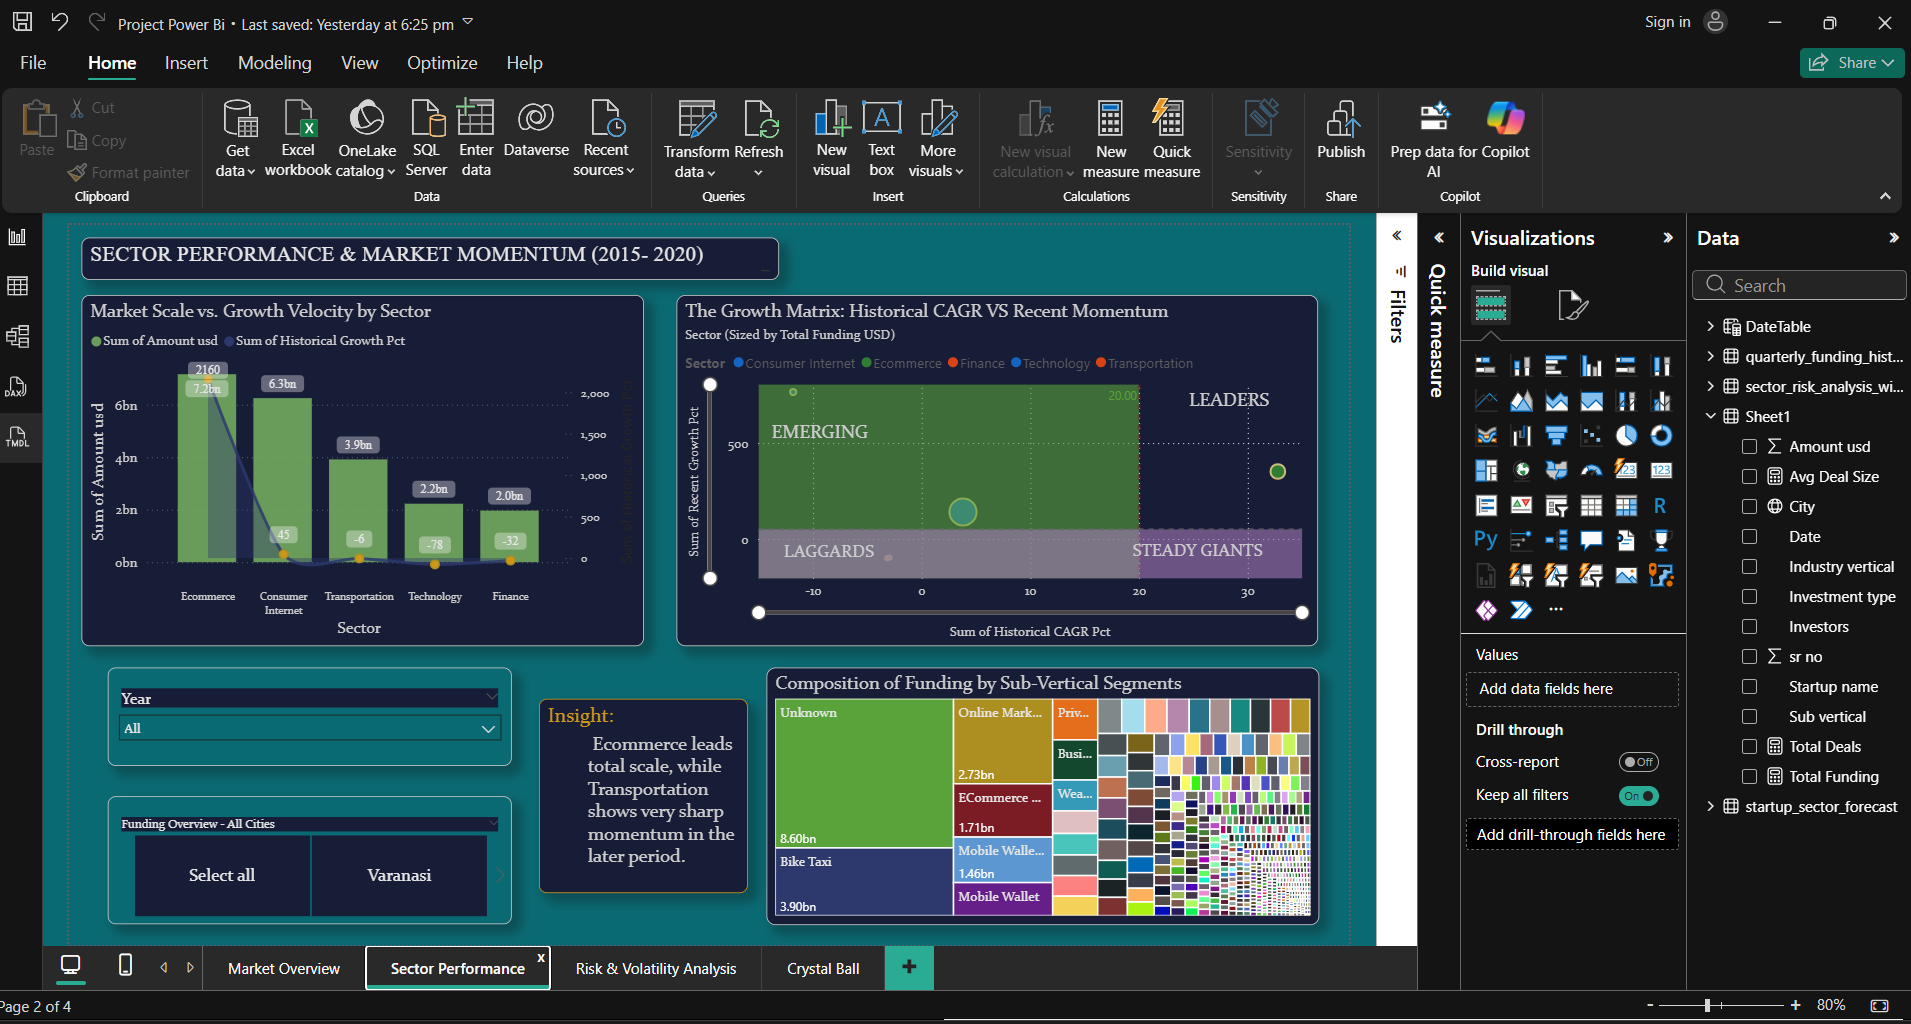

This screenshot's page, from the dashboard's own definition file:
{"tool":"powerbi","page":{"name":"Sector Performance","canvas":[1280,720],"ordinal":1},"visuals":[{"type":"scatterChart","title":"The Growth Matrix: Historical CAGR VS Recent Momentum","fields":{"X":["Sum(sector_risk_analysis_with_simple_forecast.Historical CAGR Pct)"],"Y":["Sum(sector_risk_analysis_with_simple_forecast.Recent Growth Pct)"],"Series":["sector_risk_analysis_with_simple_forecast.Sector"],"Size":["Sum(sector_risk_analysis_with_simple_forecast.Latest NonZero Historical Funding)"]},"box":[607.5,70.6,641.7,350.8],"z":0},{"type":"textbox","title":"LEADERS","box":[1115.1,163.5,95.4,31.8],"z":1000},{"type":"textbox","title":"EMERGING","box":[697.3,194.7,121.9,29.9],"z":2000},{"type":"treemap","title":"Sub-vertical concentration within total funding","fields":{"Group":["Sheet1.Sub vertical"],"Values":["Sum(Sheet1.Amount usd)"]},"box":[697.4,442.3,552.8,257.3],"z":3000},{"type":"lineClusteredColumnComboChart","title":"Market Scale vs. Growth Velocity by Sector","fields":{"Category":["sector_risk_analysis_with_simple_forecast.Sector"],"Y2":["Sum(sector_risk_analysis_with_simple_forecast.Historical Growth Pct)"],"Y":["Sum(Sheet1.Amount usd)"]},"box":[12.8,70.6,562.6,350.8],"z":4000},{"type":"slicer","fields":{"Values":["DateTable.Year"]},"box":[38.6,442.8,404.3,98.3],"z":5000},{"type":"slicer","fields":{"Values":["Sheet1.City"]},"box":[38.6,571,404.3,128.1],"z":6000},{"type":"textbox","title":"SECTOR PERFORMANCE & MARKET MOMENTUM (2015- 2020)","box":[12,13,697.4,42.5],"z":7000},{"type":"textbox","title":"Insight:","box":[470.2,473.9,209,194.1],"z":8000},{"type":"textbox","title":"STEADY GIANTS","box":[1058.4,313.4,152.2,27.3],"z":9000},{"type":"textbox","title":"LAGGARDS","box":[710.2,314.4,109.1,25.7],"z":10000}]}

Visuals, with their boxes on the page's 1280x720 design canvas (x1, y1, x2, y2). These are canvas units, not pixel positions in the 1911x1024 screenshot, which may show the page scaled, cropped or inside an application window:
"The Growth Matrix: Historical CAGR VS Recent Momentum" scatterChart: pyautogui.locateOnScreen(608, 71, 1249, 421)
"LEADERS" textbox: pyautogui.locateOnScreen(1115, 164, 1210, 195)
"EMERGING" textbox: pyautogui.locateOnScreen(697, 195, 819, 225)
"Sub-vertical concentration within total funding" treemap: pyautogui.locateOnScreen(697, 442, 1250, 700)
"Market Scale vs. Growth Velocity by Sector" lineClusteredColumnComboChart: pyautogui.locateOnScreen(13, 71, 575, 421)
slicer - DateTable.Year: pyautogui.locateOnScreen(39, 443, 443, 541)
slicer - Sheet1.City: pyautogui.locateOnScreen(39, 571, 443, 699)
"SECTOR PERFORMANCE & MARKET MOMENTUM (2015- 2020)" textbox: pyautogui.locateOnScreen(12, 13, 709, 56)
"Insight:" textbox: pyautogui.locateOnScreen(470, 474, 679, 668)
"STEADY GIANTS" textbox: pyautogui.locateOnScreen(1058, 313, 1211, 341)
"LAGGARDS" textbox: pyautogui.locateOnScreen(710, 314, 819, 340)
